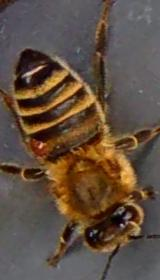varroa_mite: (13, 124, 57, 163)
